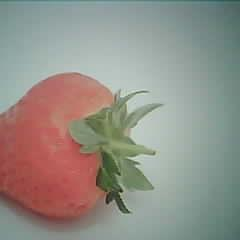straw-ripe: (0, 73, 134, 216)
